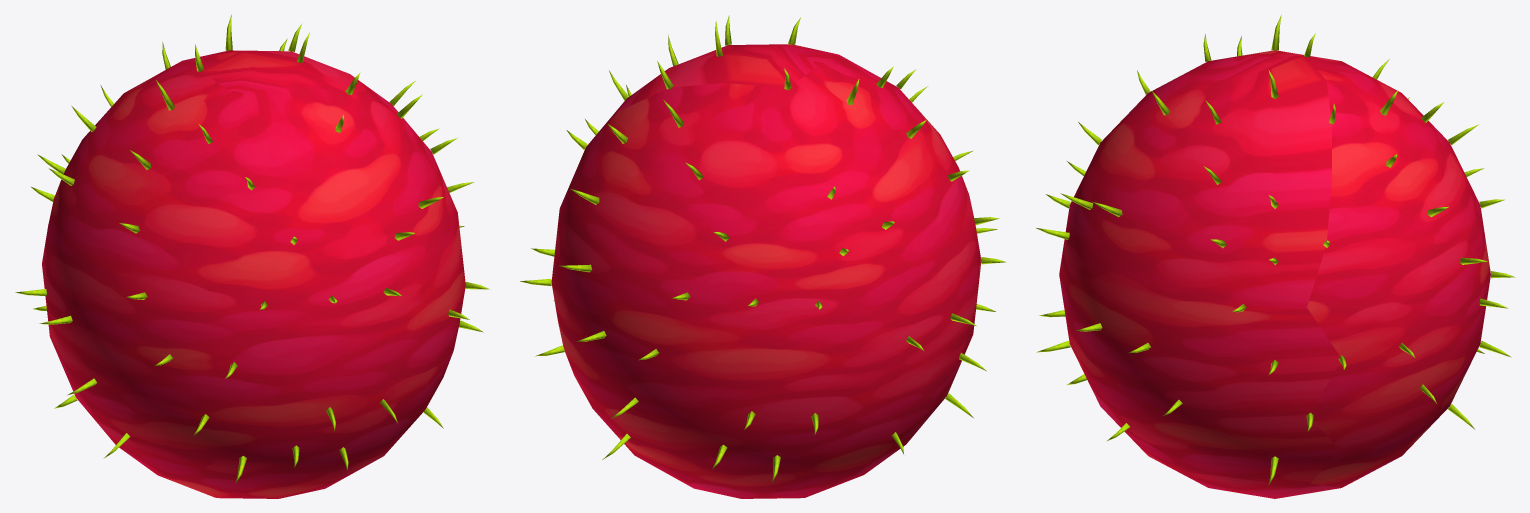
Rendered from rambutan-DO8asYeg.glb.
The picture shows the model from 3 angles, left to right: view 1: azimuth 30°, elevation 25°; view 2: azimuth 150°, elevation 25°; view 3: azimuth 270°, elevation 25°; orthographic projection. The views are drawn at different scales.
Visible parts, largest first — view 1: HI_rambutan; view 2: HI_rambutan; view 3: HI_rambutan.
Part boxes in pixels (<box>): HI_rambutan: <box>15,14,489,498</box>; HI_rambutan: <box>520,15,1006,498</box>; HI_rambutan: <box>1036,15,1515,498</box>.
Bounding box in the file's own units: 0.6 × 0.58 × 0.6.
2 materials, 2 textured.
